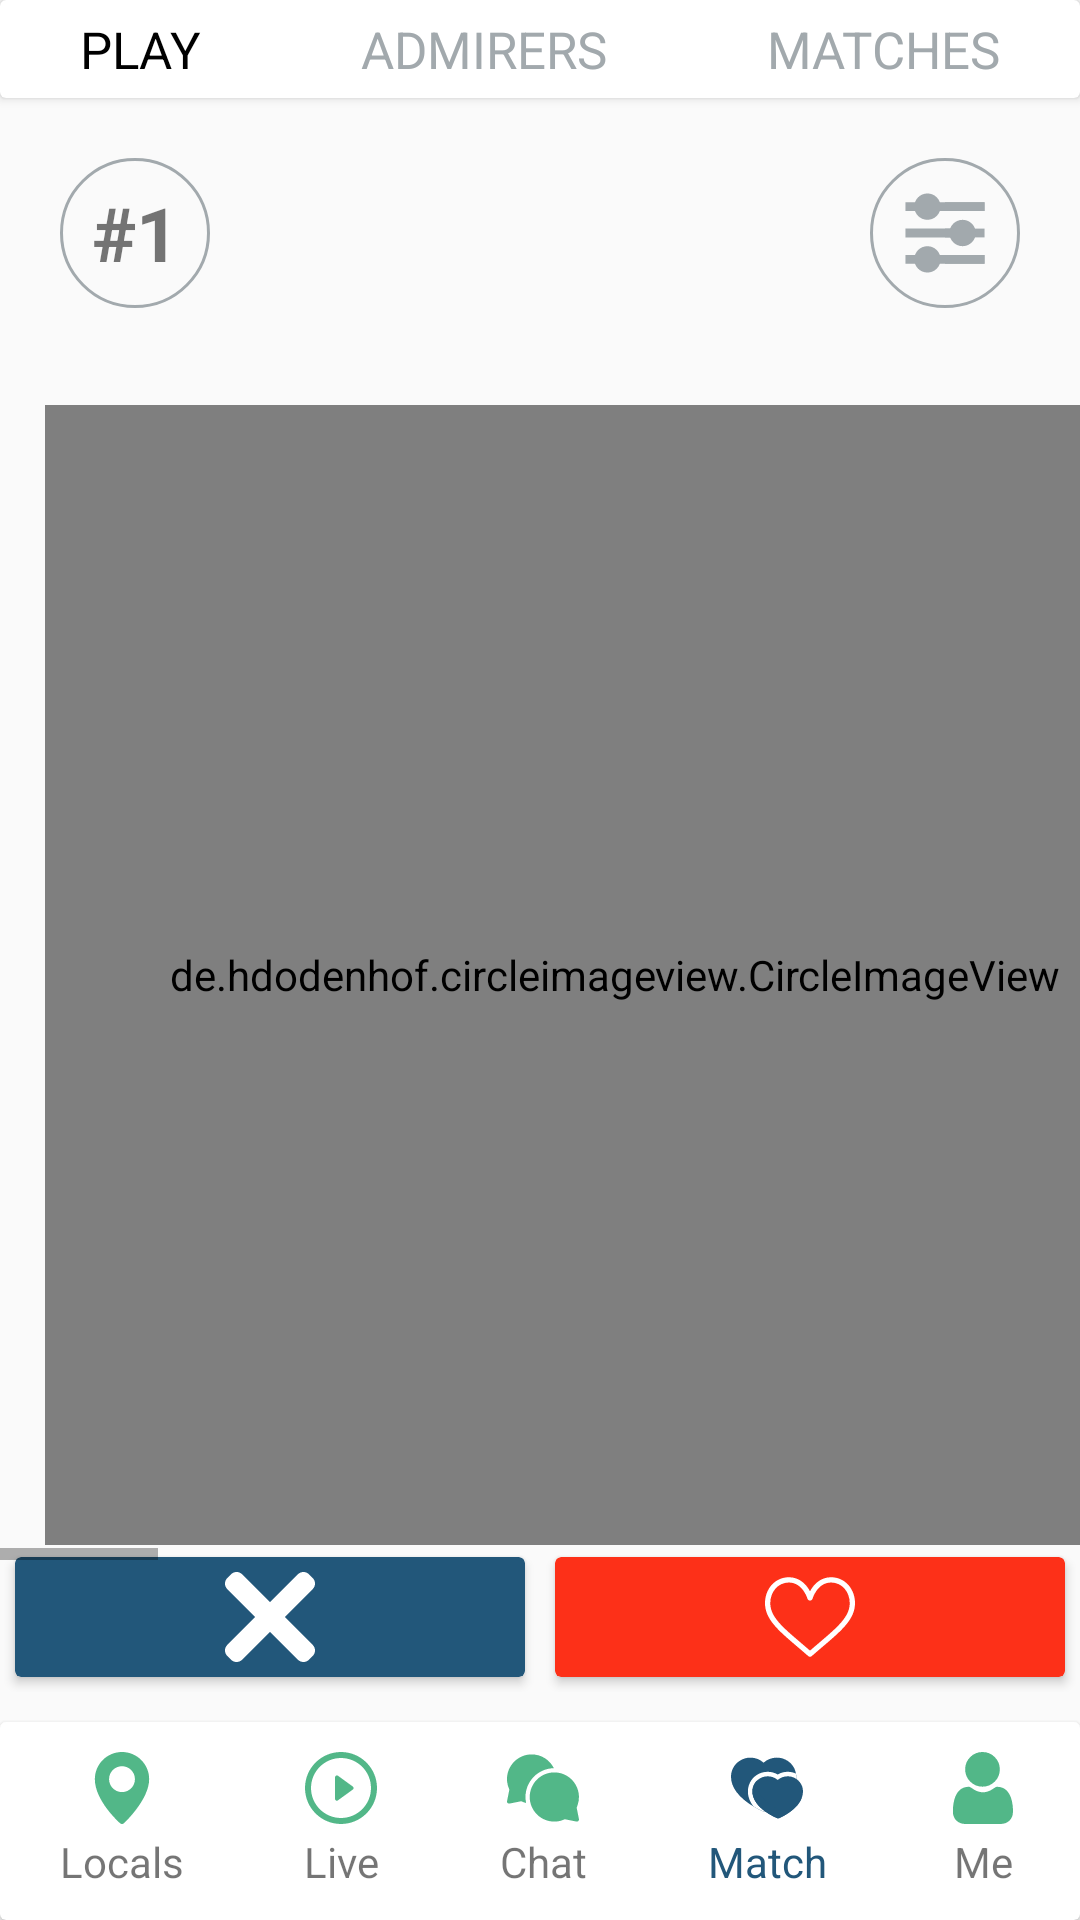

Screen size 1080px×1920px. Icon name, then its center in pixels as point (x, y):
close: point (270, 1617)
settings match: point (945, 233)
